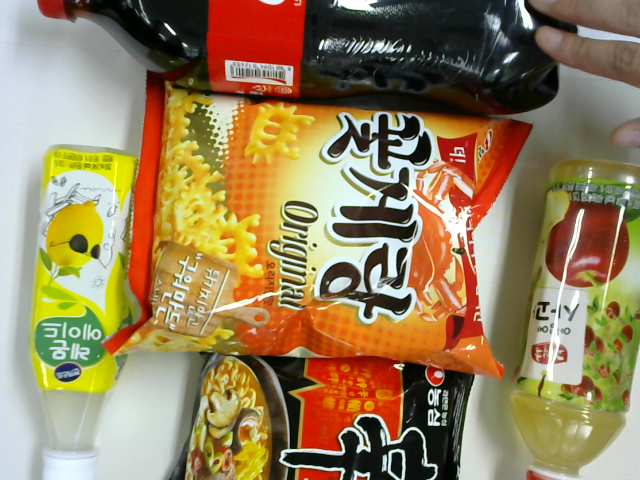Coca_Cola_1.5L: (37, 1, 528, 117)
Crabrang: (98, 68, 532, 381)
Morning_Apple_500ml: (507, 159, 638, 480)
Sinramen_Black: (168, 351, 476, 480)
Sunkist_Lemonaid_Pet: (30, 144, 144, 480)
